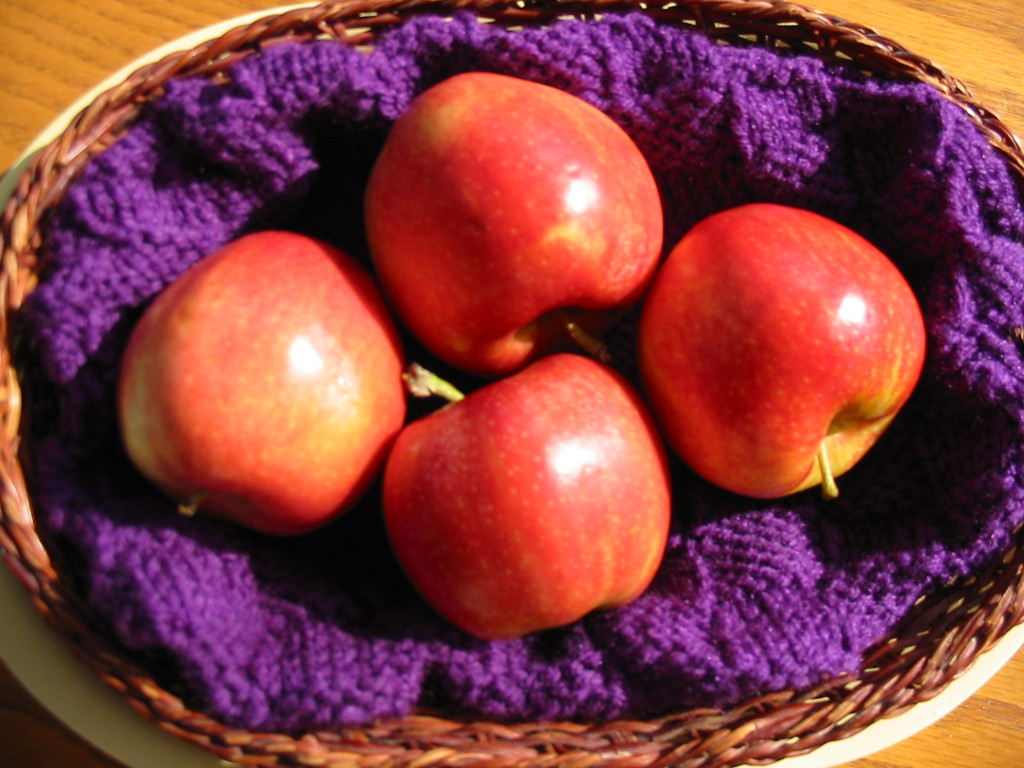Apple: (116, 224, 418, 543), (364, 72, 666, 376), (374, 348, 679, 648), (640, 191, 913, 506)
